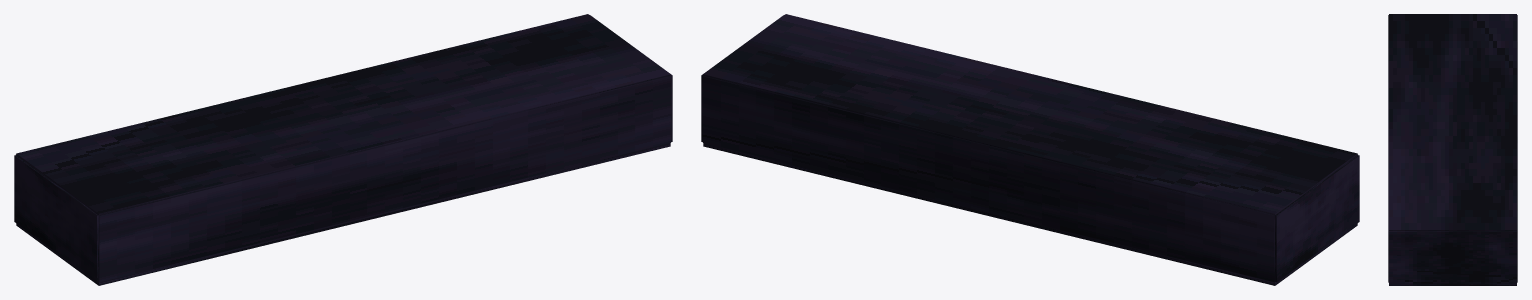
The model's file is station1_vibrant.glb.
3 renders of one model, left to right at view 1: azimuth 30°, elevation 25°; view 2: azimuth 150°, elevation 25°; view 3: azimuth 270°, elevation 25°, orthographic. The views are drawn at different scales.
Visible parts, largest first — view 1: Ceiling, Left_Side_Wall, Tunnel_End, Station_Floor; view 2: Ceiling, Right_Side_Wall, Tunnel_End, Station_Floor; view 3: Ceiling, Tunnel_End.001, Station_Floor, Left_Side_Wall, Right_Side_Wall.
Part boxes in pixels (x1=…): Ceiling: x1=16, y1=14, x2=670, y2=215; Left_Side_Wall: x1=99, y1=76, x2=671, y2=282; Tunnel_End: x1=14, y1=155, x2=98, y2=282; Station_Floor: x1=16, y1=143, x2=670, y2=285; Ceiling: x1=703, y1=14, x2=1357, y2=215; Right_Side_Wall: x1=702, y1=76, x2=1274, y2=282; Tunnel_End: x1=1275, y1=155, x2=1359, y2=282; Station_Floor: x1=703, y1=143, x2=1357, y2=285; Ceiling: x1=1389, y1=14, x2=1516, y2=231; Tunnel_End.001: x1=1389, y1=231, x2=1516, y2=283; Station_Floor: x1=1389, y1=283, x2=1516, y2=285; Left_Side_Wall: x1=1388, y1=15, x2=1388, y2=282; Right_Side_Wall: x1=1517, y1=15, x2=1517, y2=282.
Size of the model in its own units: 72.5 by 8.67 by 18.25.
11 materials, 11 textured.
